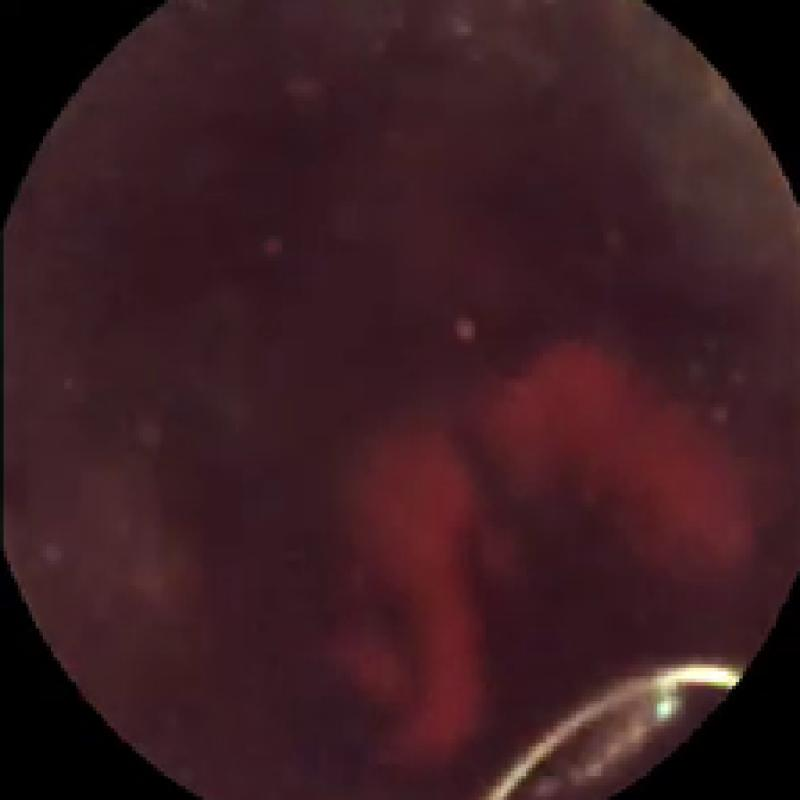bleeding: (475, 336, 761, 582), (330, 413, 475, 767)
